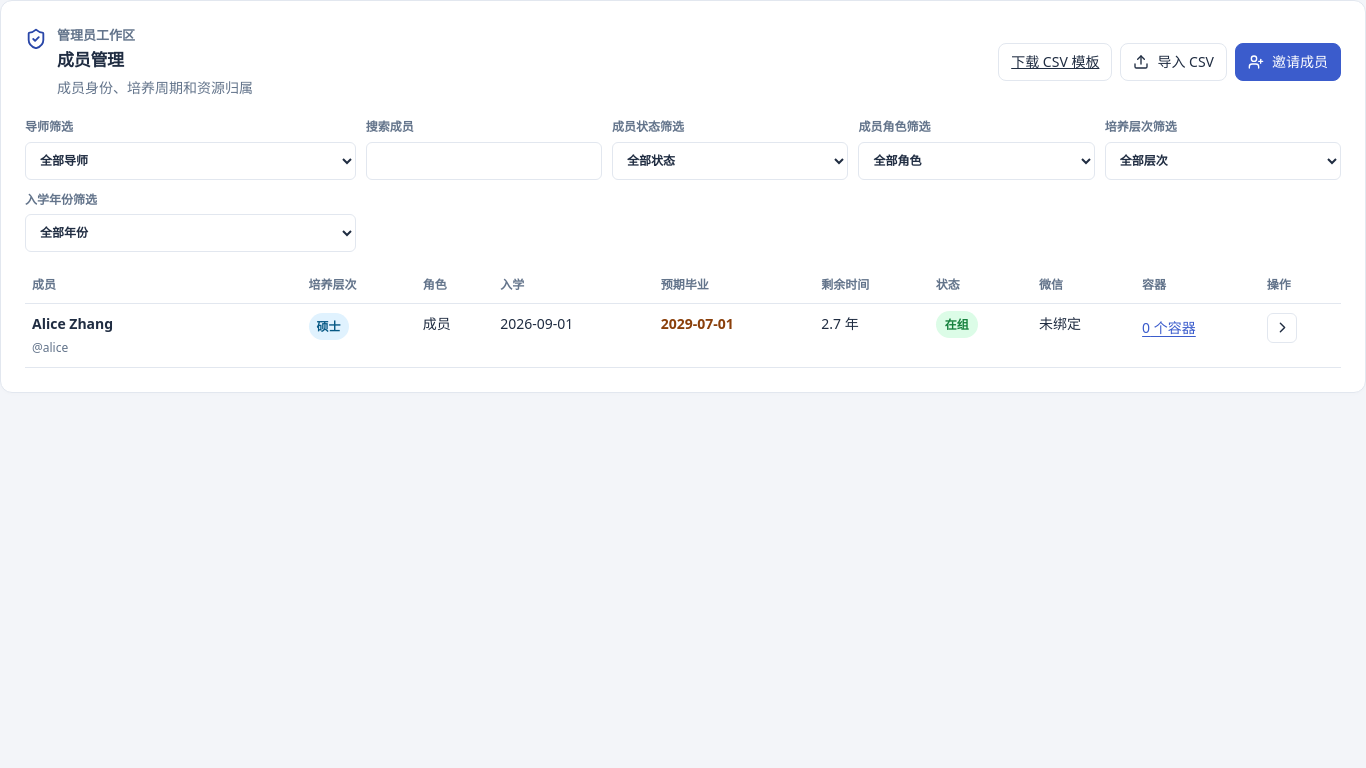
Test: member row opens a detail drawer with one action menu
Check: the text "Alice Zhang" is shown, box [32,314,113,333]
Check: the button "延期 Alice Zhang" is not shown
Click the button named "打开 Alice Zhang".
click(1282, 328)  # box [1267,313,1297,343]
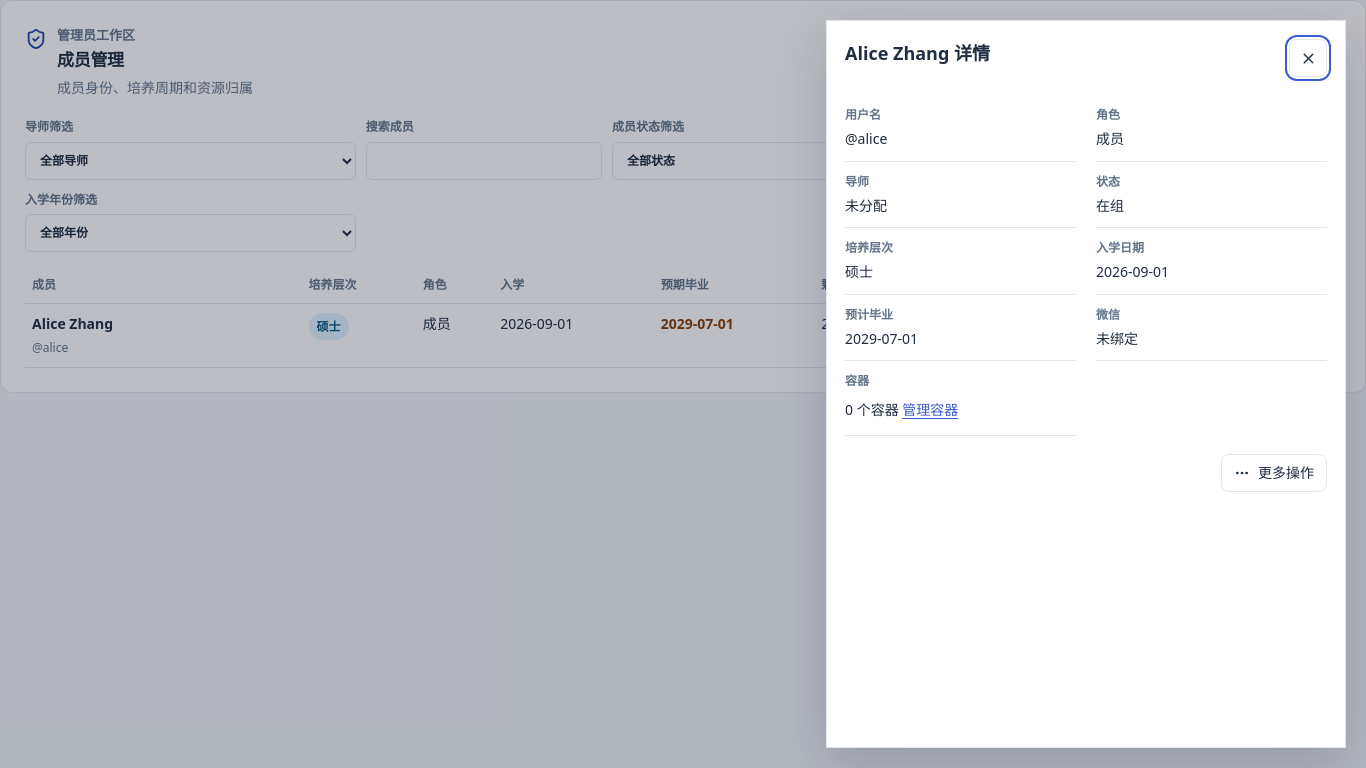
Check: the dialog "Alice Zhang 详情" is shown, box [826,20,1346,748]
Click the button with aria-label "Alice Zhang 的更多操作".
click(1274, 473)  # box [1221,454,1327,492]
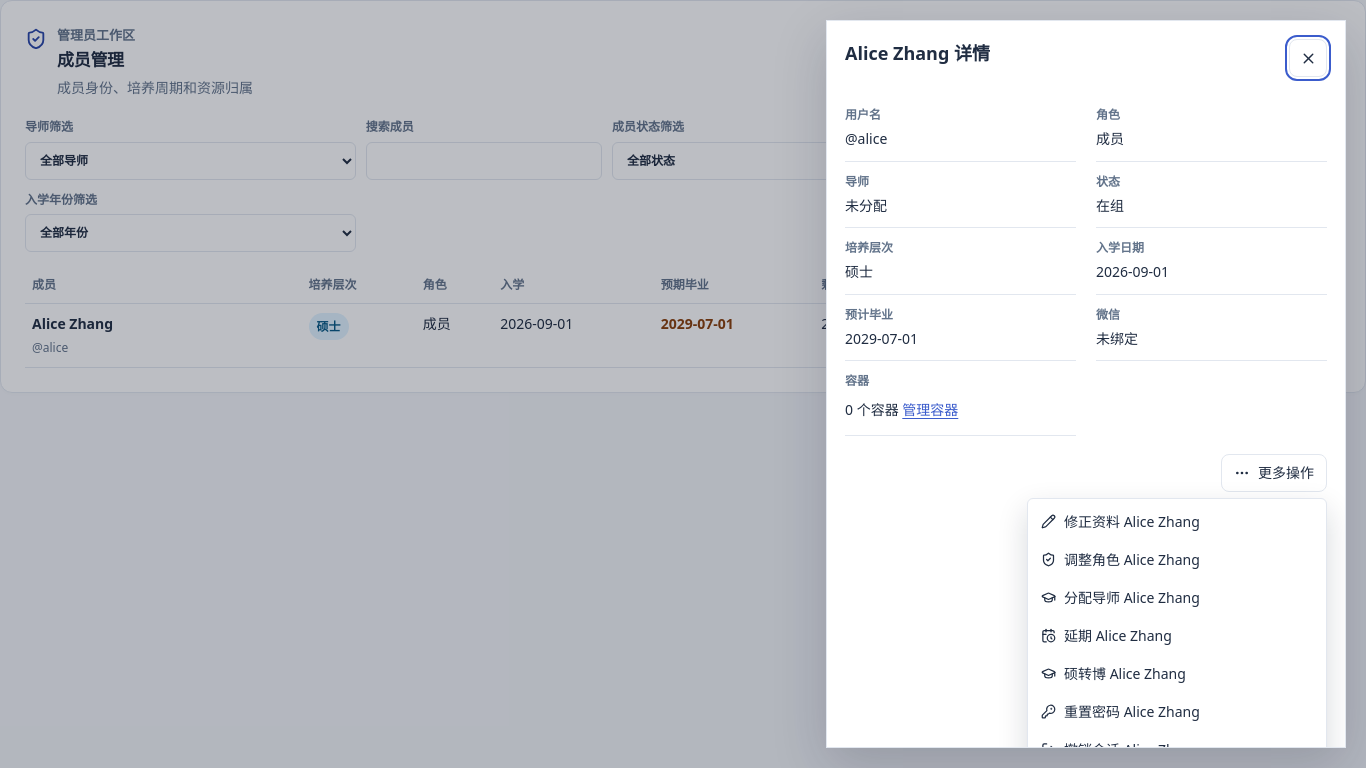
Check: the number of buttons "更多操作" is 1, box [1221,454,1327,492]
Check: the button "延期 Alice Zhang" is shown, box [1032,617,1322,655]
